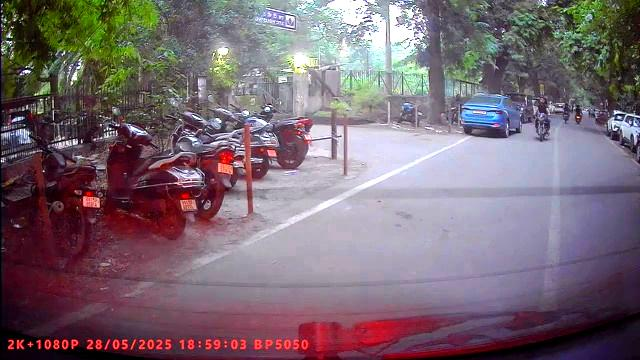motorcycle_without_helmet: (534, 97, 550, 142)
